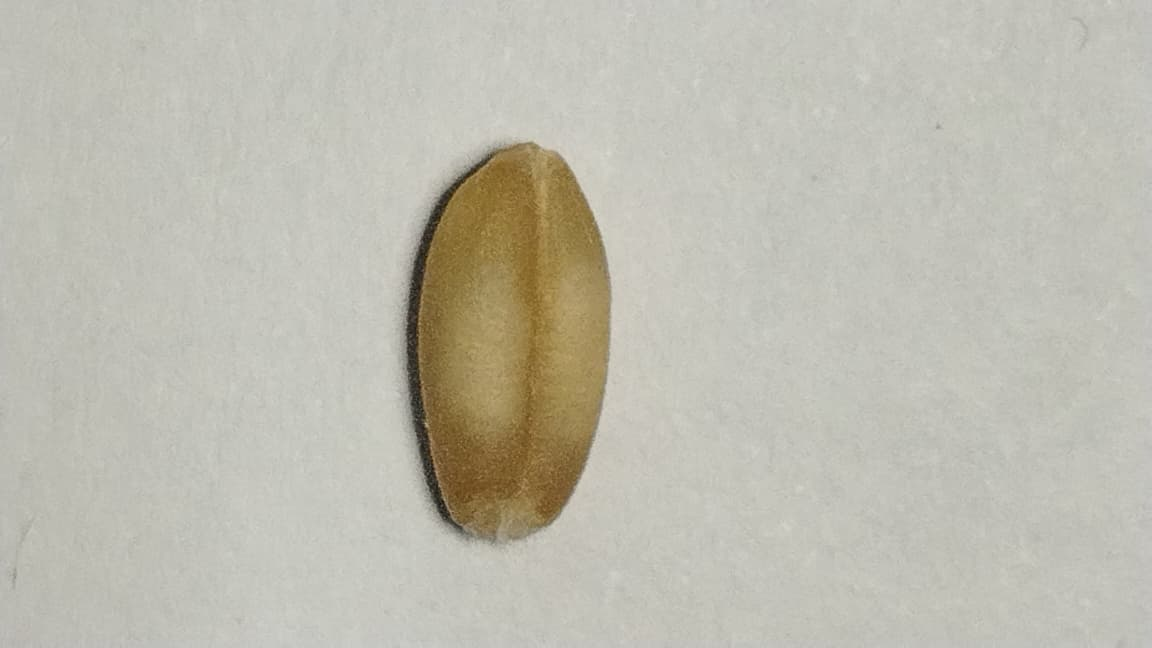healthy: (417, 145, 609, 534)
